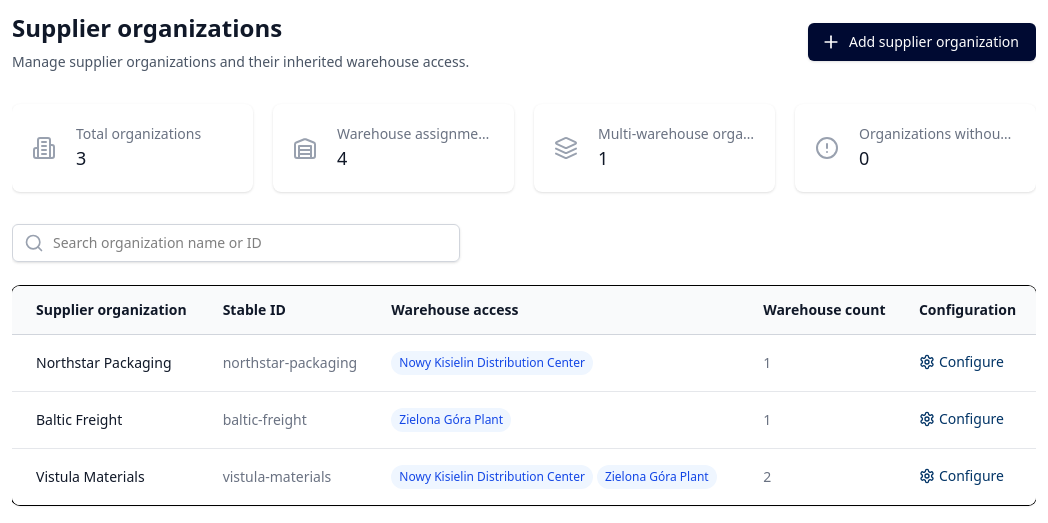
Test case: SupplierOrganizationsPage › 11. searches by display name and removes the nonmatching records;
Type "Northstar" into the field labelled "Search organization name or ID" at (236, 243), box [12,224,460,262]
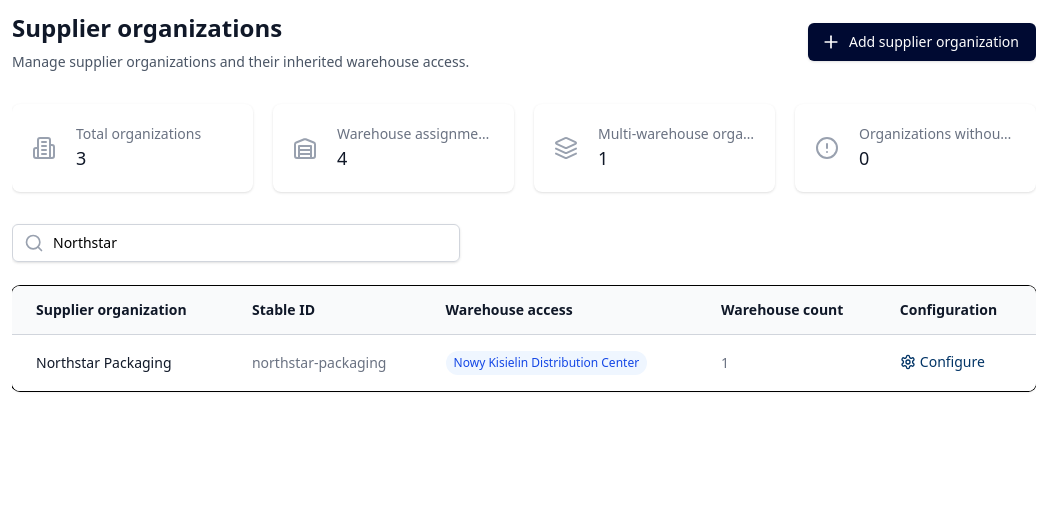
Expected: the text "Northstar Packaging" is shown, [12,334,240,391]
Now the text "Baltic Freight" is gone
Now the text "Vistula Materials" is gone
